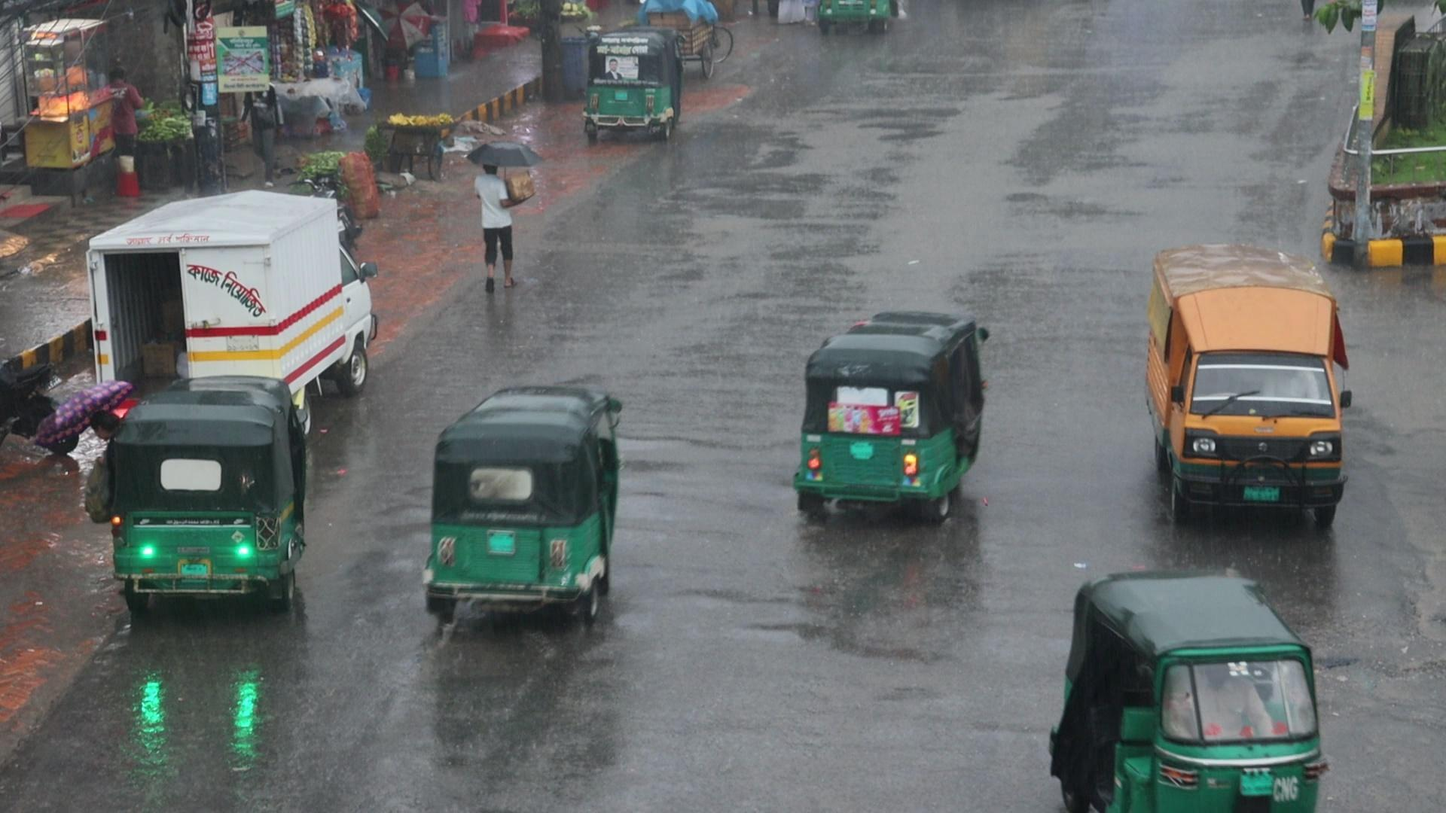Truck: (1139, 235, 1354, 537)
